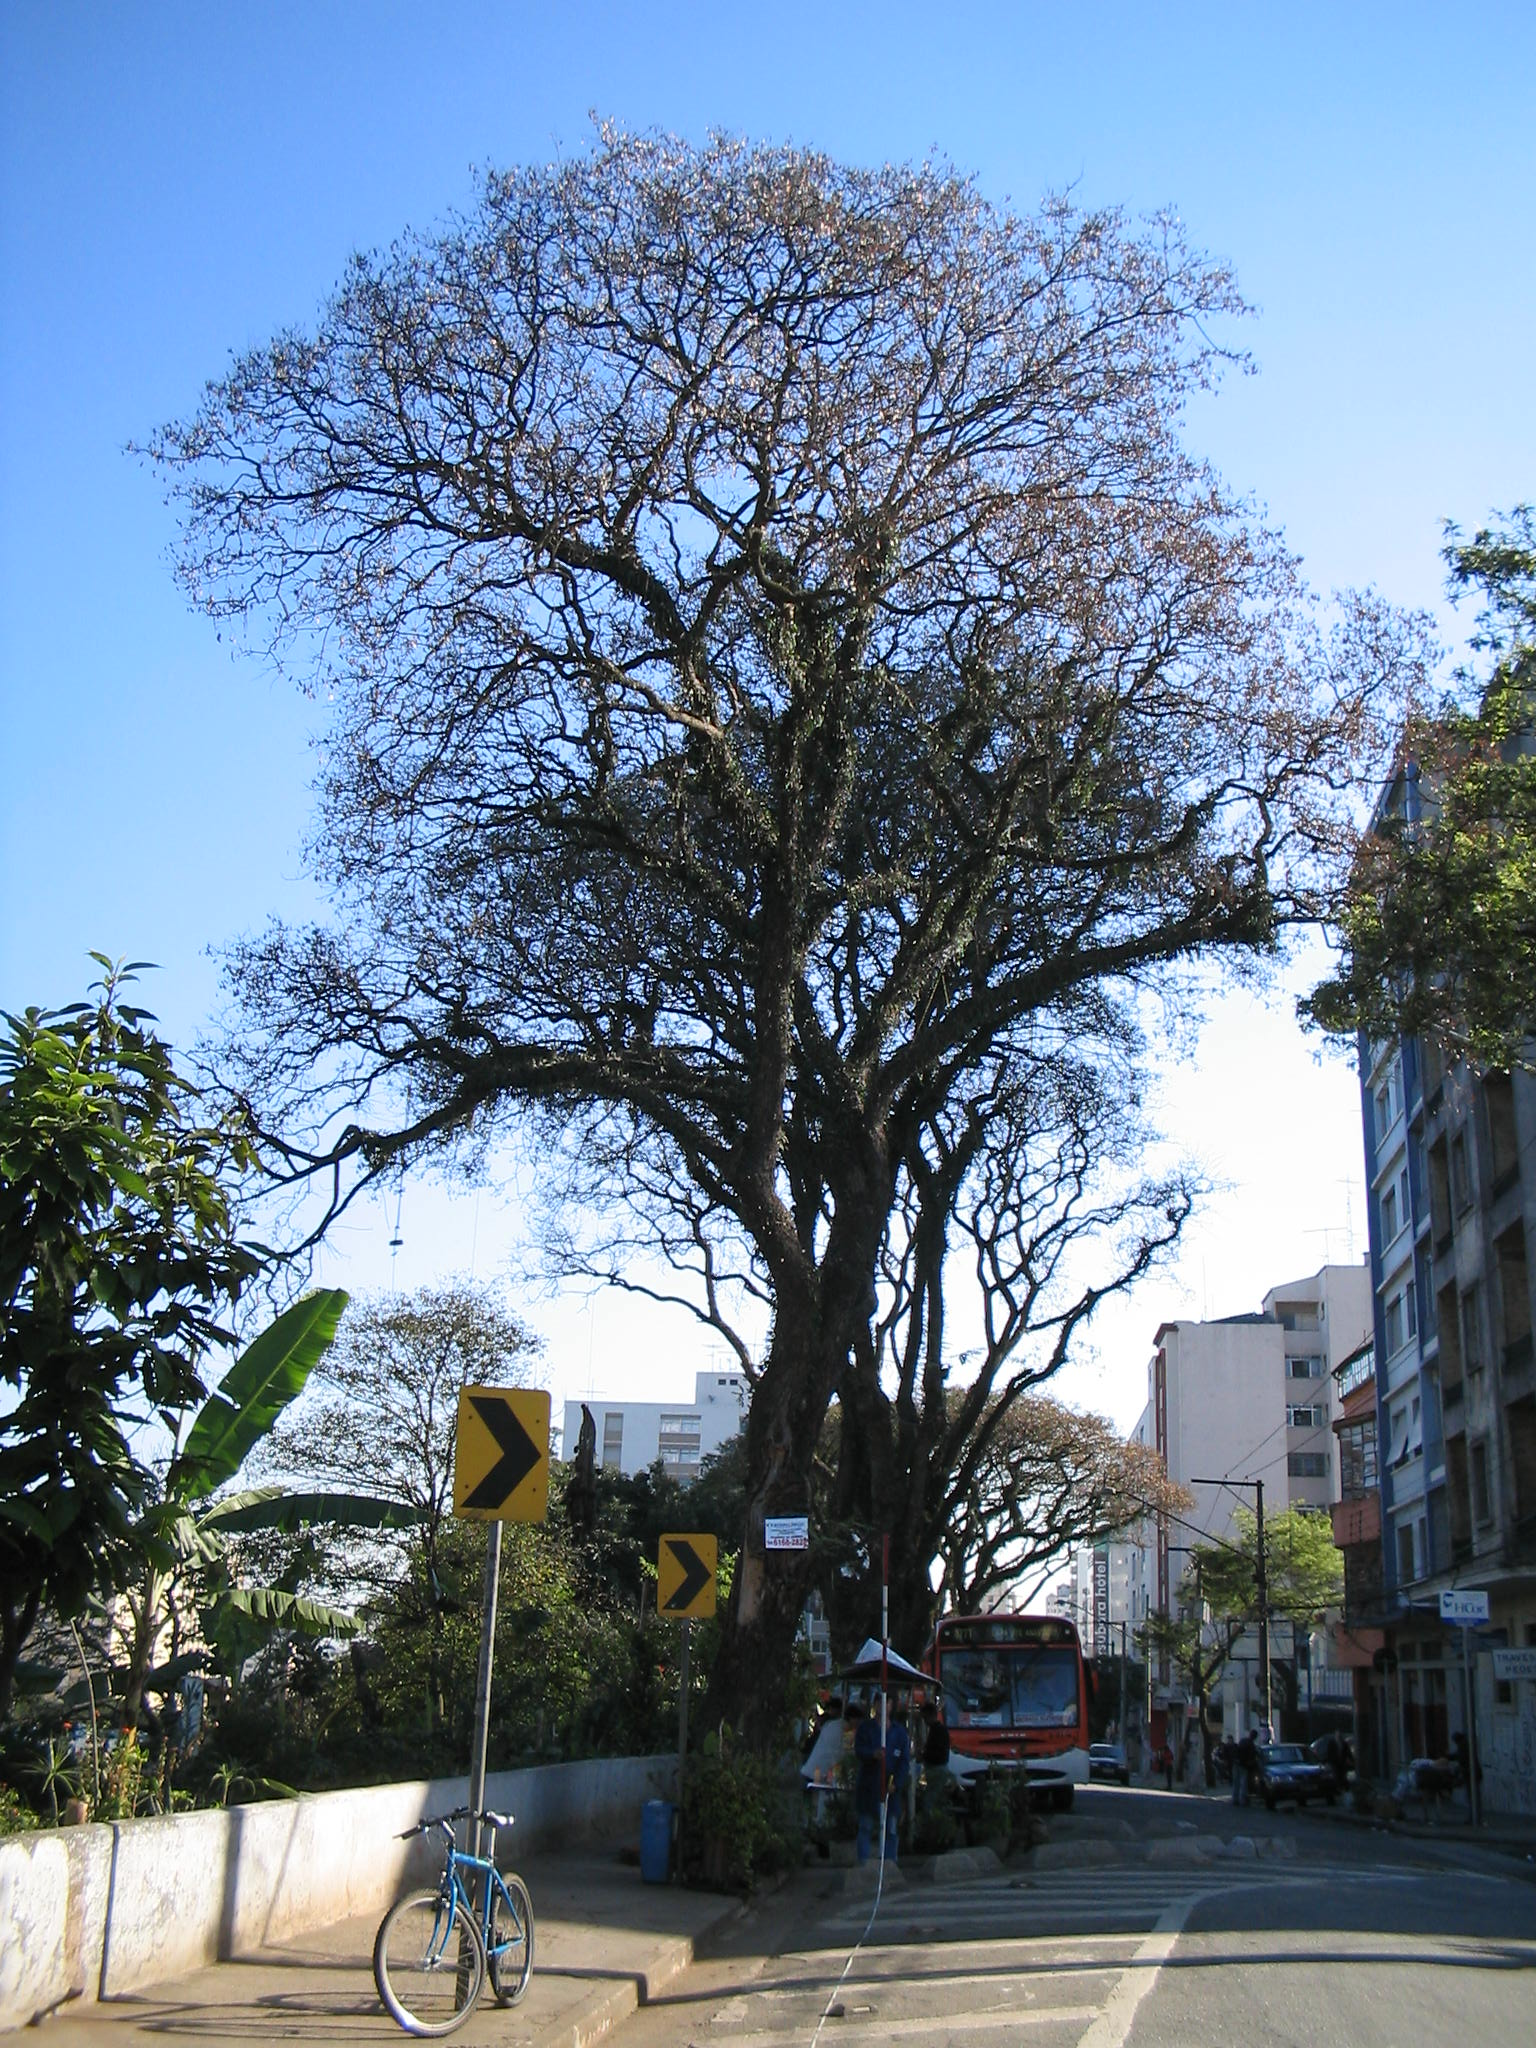crown: (97, 103, 1315, 855)
stem: (644, 1511, 842, 1895)
stick: (842, 1534, 915, 1887)
tree: (90, 97, 1328, 1900)
